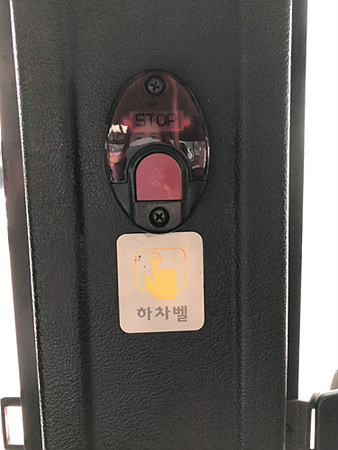bell: (100, 70, 215, 233)
